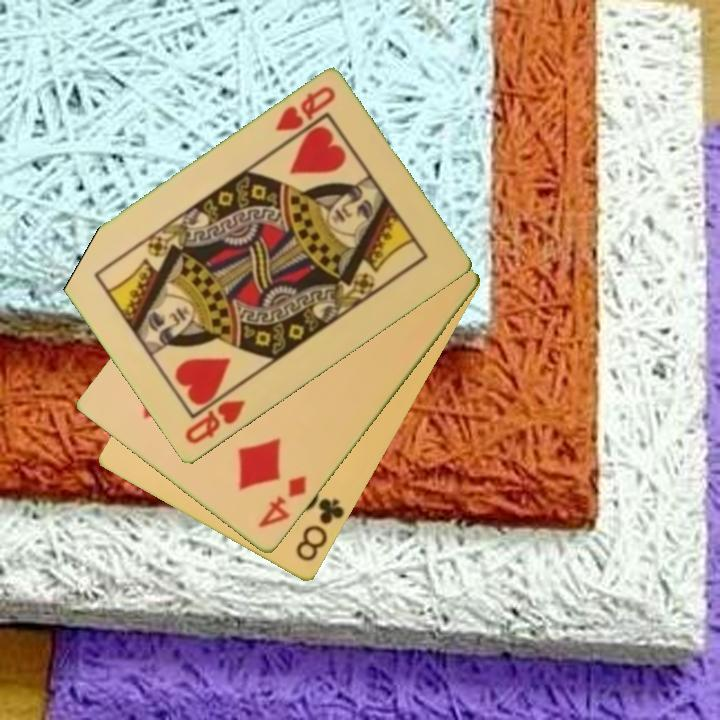4d: (255, 472, 310, 532)
8c: (292, 495, 348, 565)
Qh: (181, 396, 249, 448), (271, 83, 339, 135)
